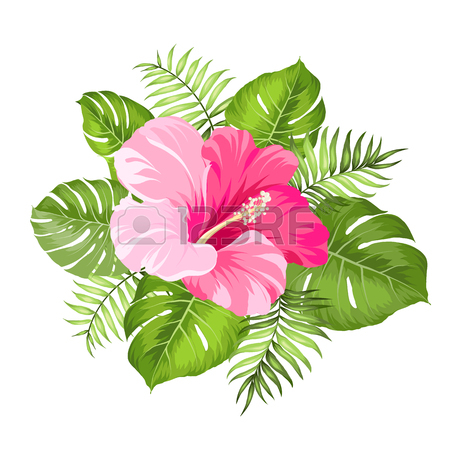Hibiscus: (108, 125, 326, 312)
